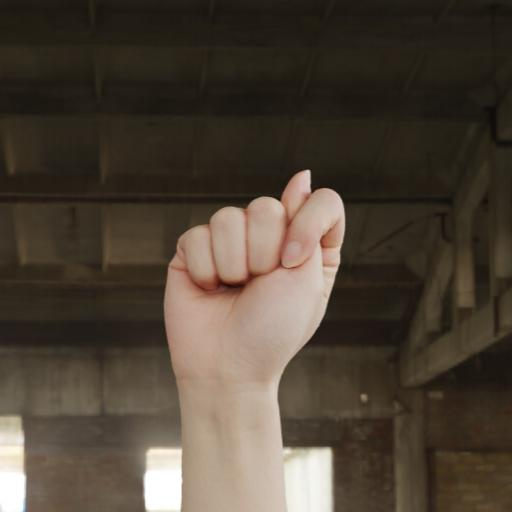T: (149, 166, 352, 512)
